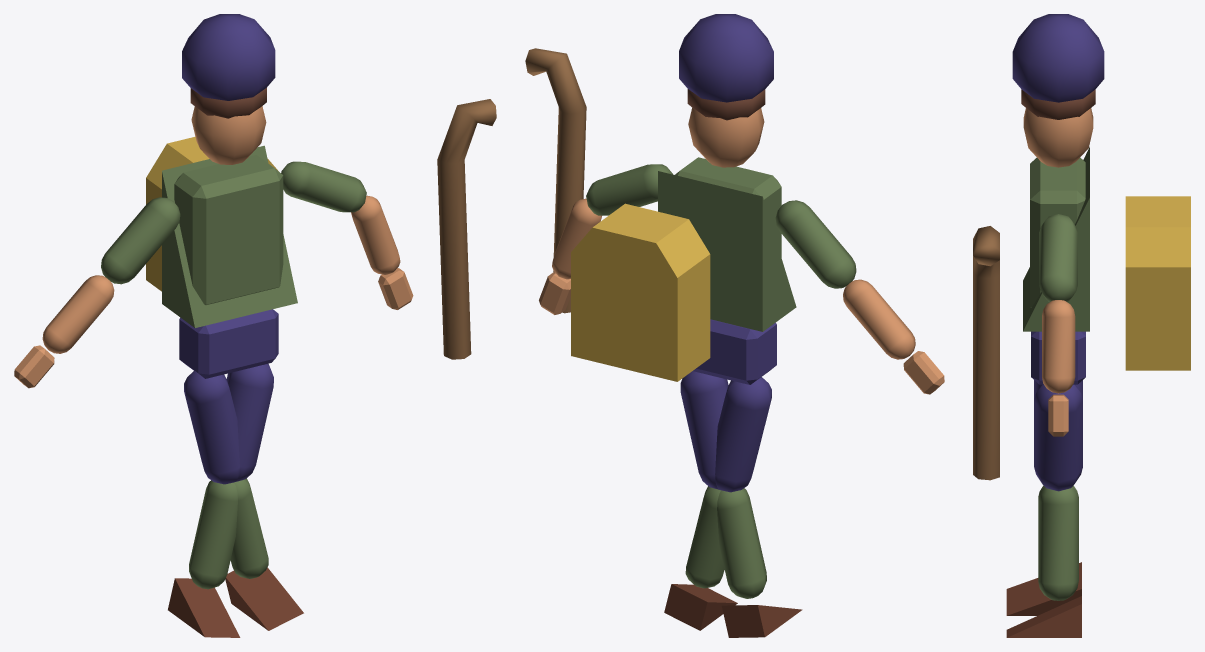
File: adventurer.rustic.glb
The picture shows the model from 3 angles, left to right: view 1: azimuth 30°, elevation 25°; view 2: azimuth 150°, elevation 25°; view 3: azimuth 270°, elevation 25°; orthographic projection.
Visible parts, largest first — view 1: torso, accessory.main-hand, accessory.head, tunic, pelvis, thigh.left, shin.right, upper-arm.left, thigh.right, head, upper-arm.right, forearm.left (+8 smaller); view 2: accessory.back, tunic, accessory.head, accessory.main-hand, thigh.left, shin.right, upper-arm.left, pelvis, thigh.right, head, forearm.left, upper-arm.right (+8 smaller); view 3: accessory.back, accessory.main-hand, accessory.head, shin.left, thigh.right, torso, upper-arm.right, head, forearm.right, tunic, foot.left, foot.right (+3 smaller).
Boxes of the visible parts, box(x1,y1,x2,y2) form: torso: box(174, 155, 283, 304); accessory.main-hand: box(437, 99, 496, 359); accessory.head: box(182, 14, 275, 100); tunic: box(162, 145, 297, 327); pelvis: box(179, 309, 278, 378); thigh.left: box(184, 371, 239, 484); shin.right: box(189, 480, 237, 589); upper-arm.left: box(101, 197, 180, 284); thigh.right: box(226, 364, 273, 481); head: box(191, 106, 266, 164); upper-arm.right: box(281, 161, 366, 212); forearm.left: box(42, 275, 114, 353); accessory.back: box(571, 203, 710, 381); tunic: box(658, 171, 796, 331); accessory.head: box(679, 14, 773, 102); accessory.main-hand: box(525, 48, 586, 313); thigh.left: box(715, 377, 771, 492); shin.right: box(717, 488, 766, 598); upper-arm.left: box(775, 200, 856, 288); pelvis: box(693, 319, 776, 384); thigh.right: box(680, 371, 728, 489); head: box(688, 107, 764, 167); forearm.left: box(843, 279, 915, 359); upper-arm.right: box(586, 164, 672, 215); accessory.back: box(1125, 196, 1190, 370); accessory.main-hand: box(973, 226, 999, 480); accessory.head: box(1012, 14, 1104, 102); shin.left: box(1038, 486, 1078, 600); thigh.right: box(1034, 384, 1082, 491); torso: box(1030, 157, 1085, 307); upper-arm.right: box(1039, 214, 1077, 301); head: box(1023, 108, 1093, 167); forearm.right: box(1042, 300, 1075, 393); tunic: box(1023, 147, 1089, 331); foot.left: box(1006, 596, 1081, 637); foot.right: box(1006, 562, 1081, 615).
Size of the model in its own units: 2.52 by 3.28 by 1.07.
